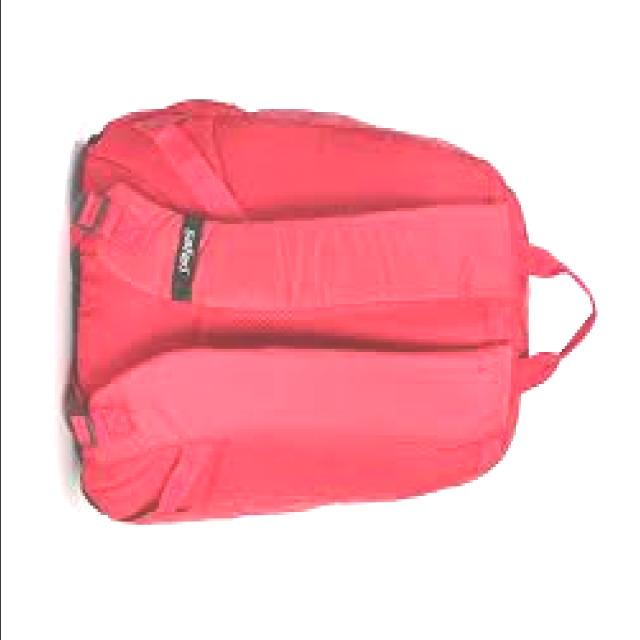backpack: (67, 97, 600, 526)
